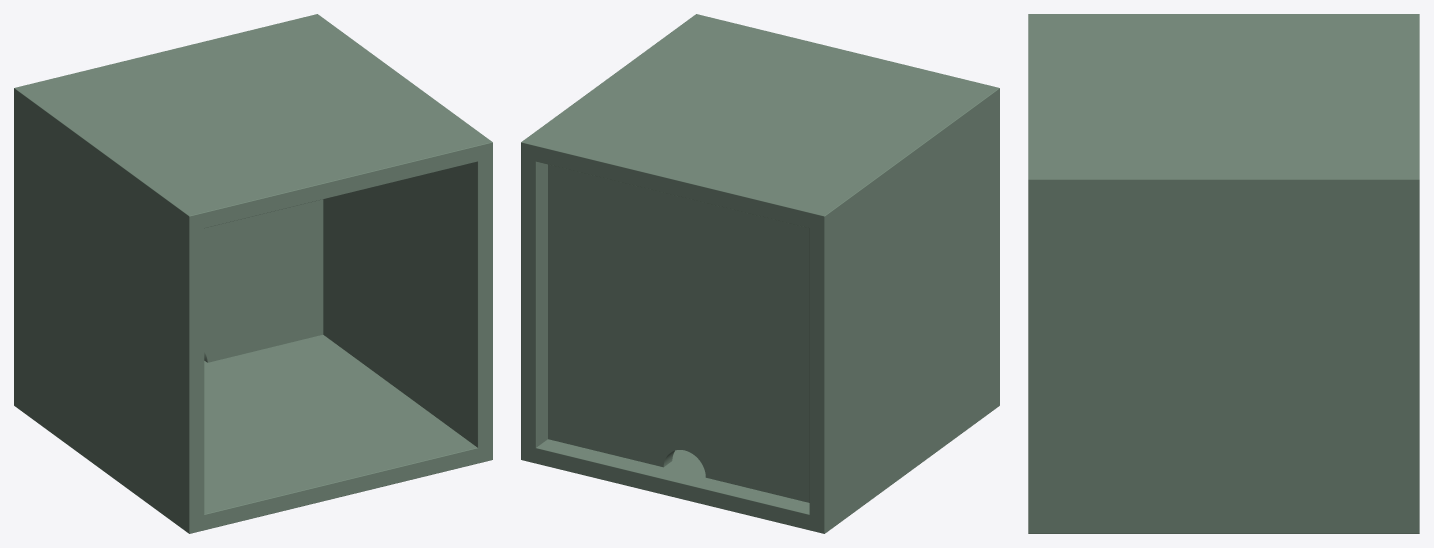
The model's file is MOD_1X1_A_B_AP_VA.glb.
3 views of the same model, side by side, from view 1: azimuth 30°, elevation 25°; view 2: azimuth 150°, elevation 25°; view 3: azimuth 270°, elevation 25° (orthographic). The views are drawn at different scales.
Bounding box in the file's own units: 360 × 360 × 360.
